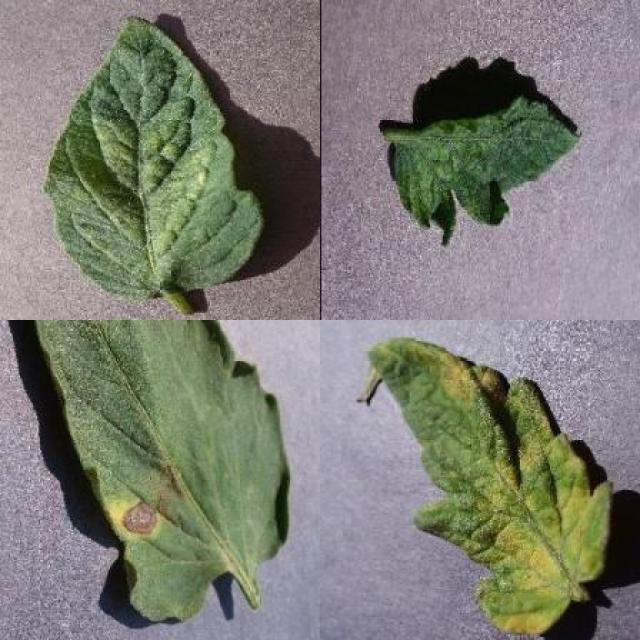Early Blight: (35, 320, 291, 626)
Leaf Mold: (365, 338, 612, 636)
Mosaic Virus: (392, 97, 582, 250)
Spider Mites: (44, 13, 265, 296)
